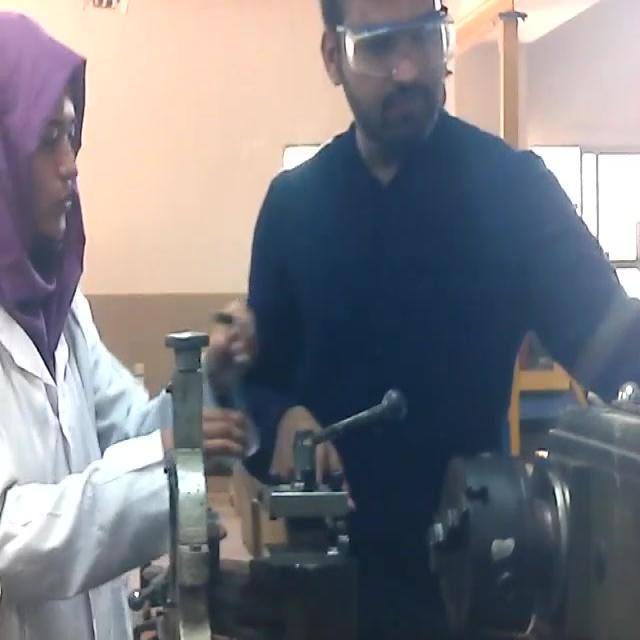googles: (346, 13, 455, 88)
labcoat: (2, 290, 232, 640)
